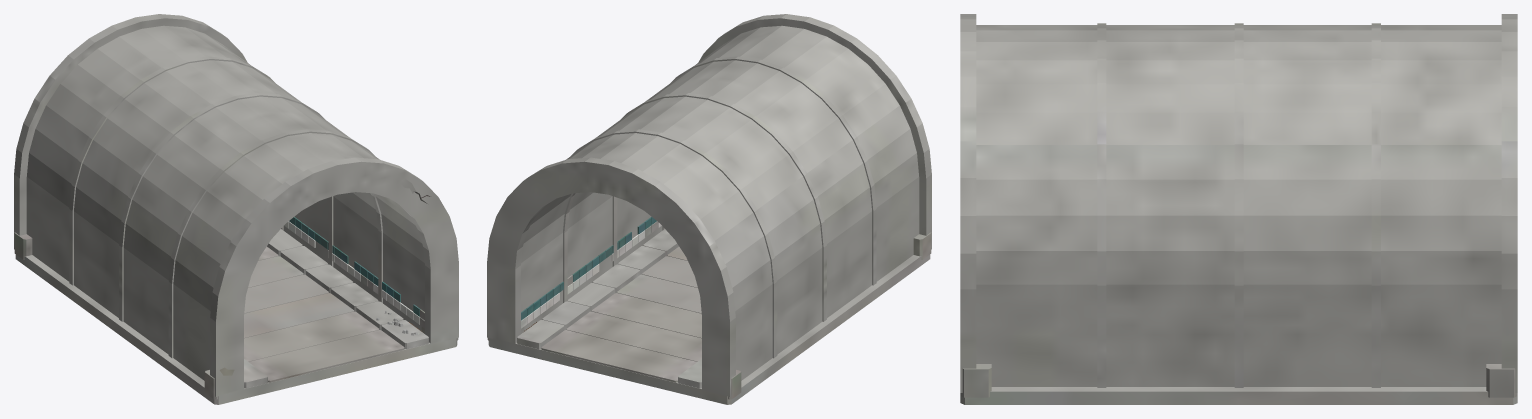
File: RE17_underpass_tunnel_piece.glb
The picture shows the model from 3 angles, left to right: view 1: azimuth 30°, elevation 25°; view 2: azimuth 150°, elevation 25°; view 3: azimuth 270°, elevation 25°; orthographic projection. The views are drawn at different scales.
Visible parts, largest first — view 1: Factory underpass; view 2: Factory underpass; view 3: Factory underpass.
Part boxes in pixels (bbox=[...]): Factory underpass: bbox=[14, 14, 458, 404]; Factory underpass: bbox=[487, 14, 931, 404]; Factory underpass: bbox=[960, 14, 1517, 404].
Bounding box in the file's own units: 5.6 × 4.61 × 8.
9 materials, 9 textured.
